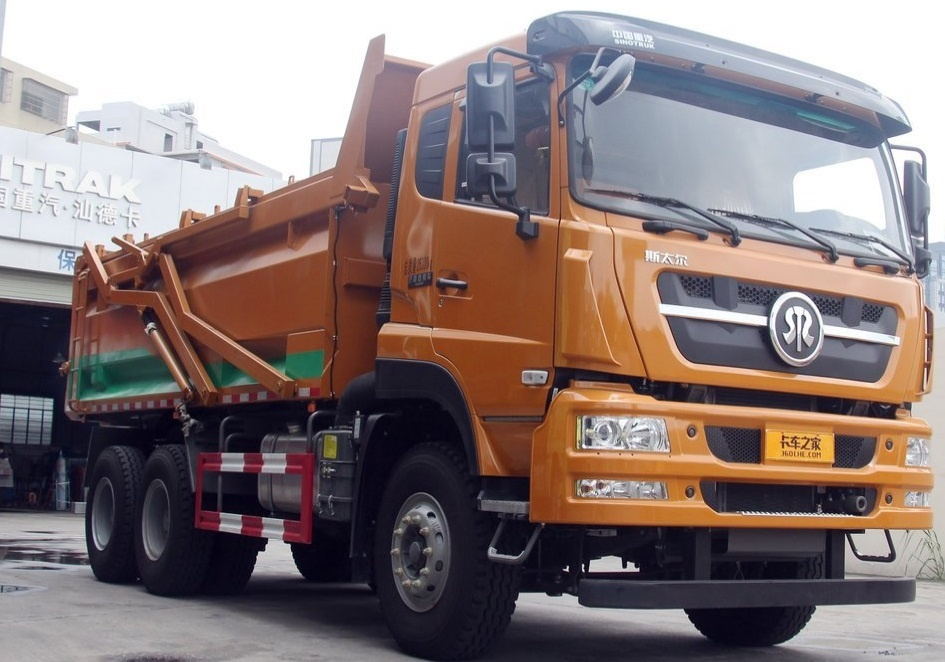heavy truck: (53, 35, 939, 645)
